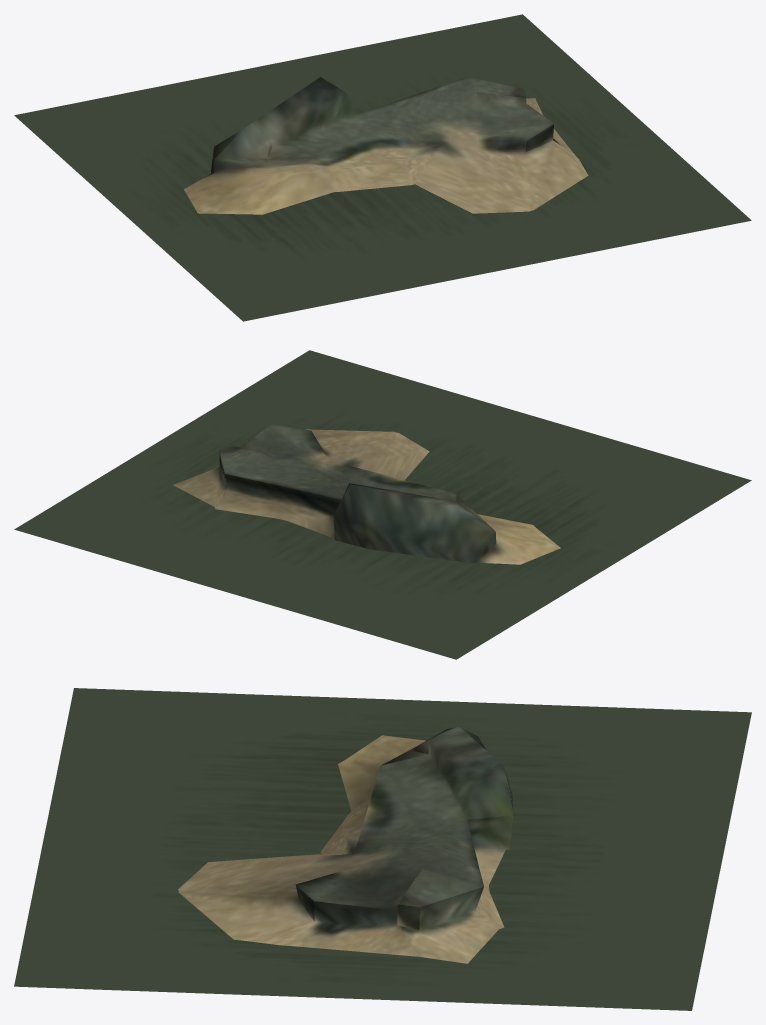
The model's file is pir_m_are_isl_pvpSpanish_worldmap.fbx.
3 views of the same model, one above another, from view 1: azimuth 30°, elevation 25°; view 2: azimuth 150°, elevation 25°; view 3: azimuth 270°, elevation 25° (orthographic). The views are drawn at different scales.
Visible parts, largest first — view 1: sketchmark, top_mesh; view 2: sketchmark, top_mesh; view 3: sketchmark, top_mesh.
Part boxes in pixels (x1,y1,x2,y2): sketchmark: (14, 14, 751, 321); top_mesh: (184, 77, 588, 214); sketchmark: (14, 350, 751, 659); top_mesh: (173, 424, 560, 564); sketchmark: (14, 688, 751, 1010); top_mesh: (178, 726, 513, 963).
Size of the model in its own units: 12.51 by 1.38 by 12.08.
2 materials, 2 textured.
